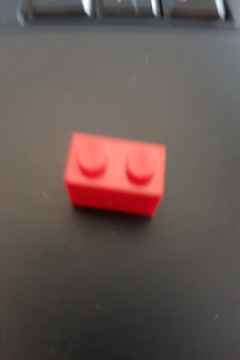1x2 red: (63, 132, 166, 218)
